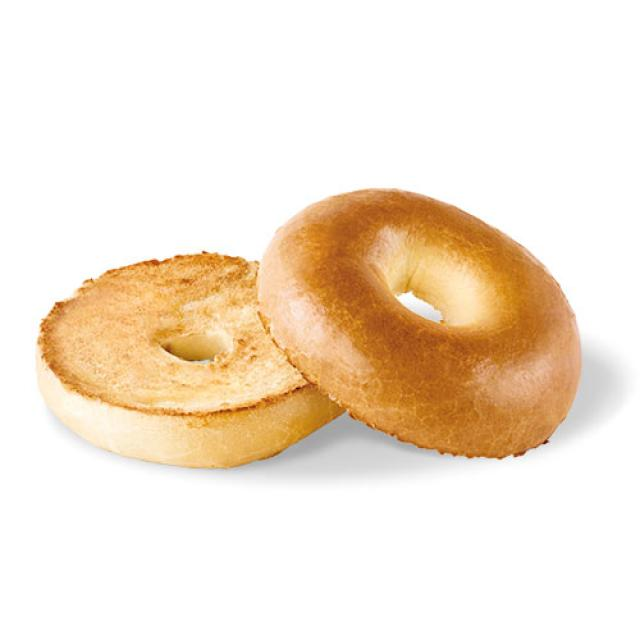Bagel: (259, 189, 581, 457), (36, 252, 342, 468)
